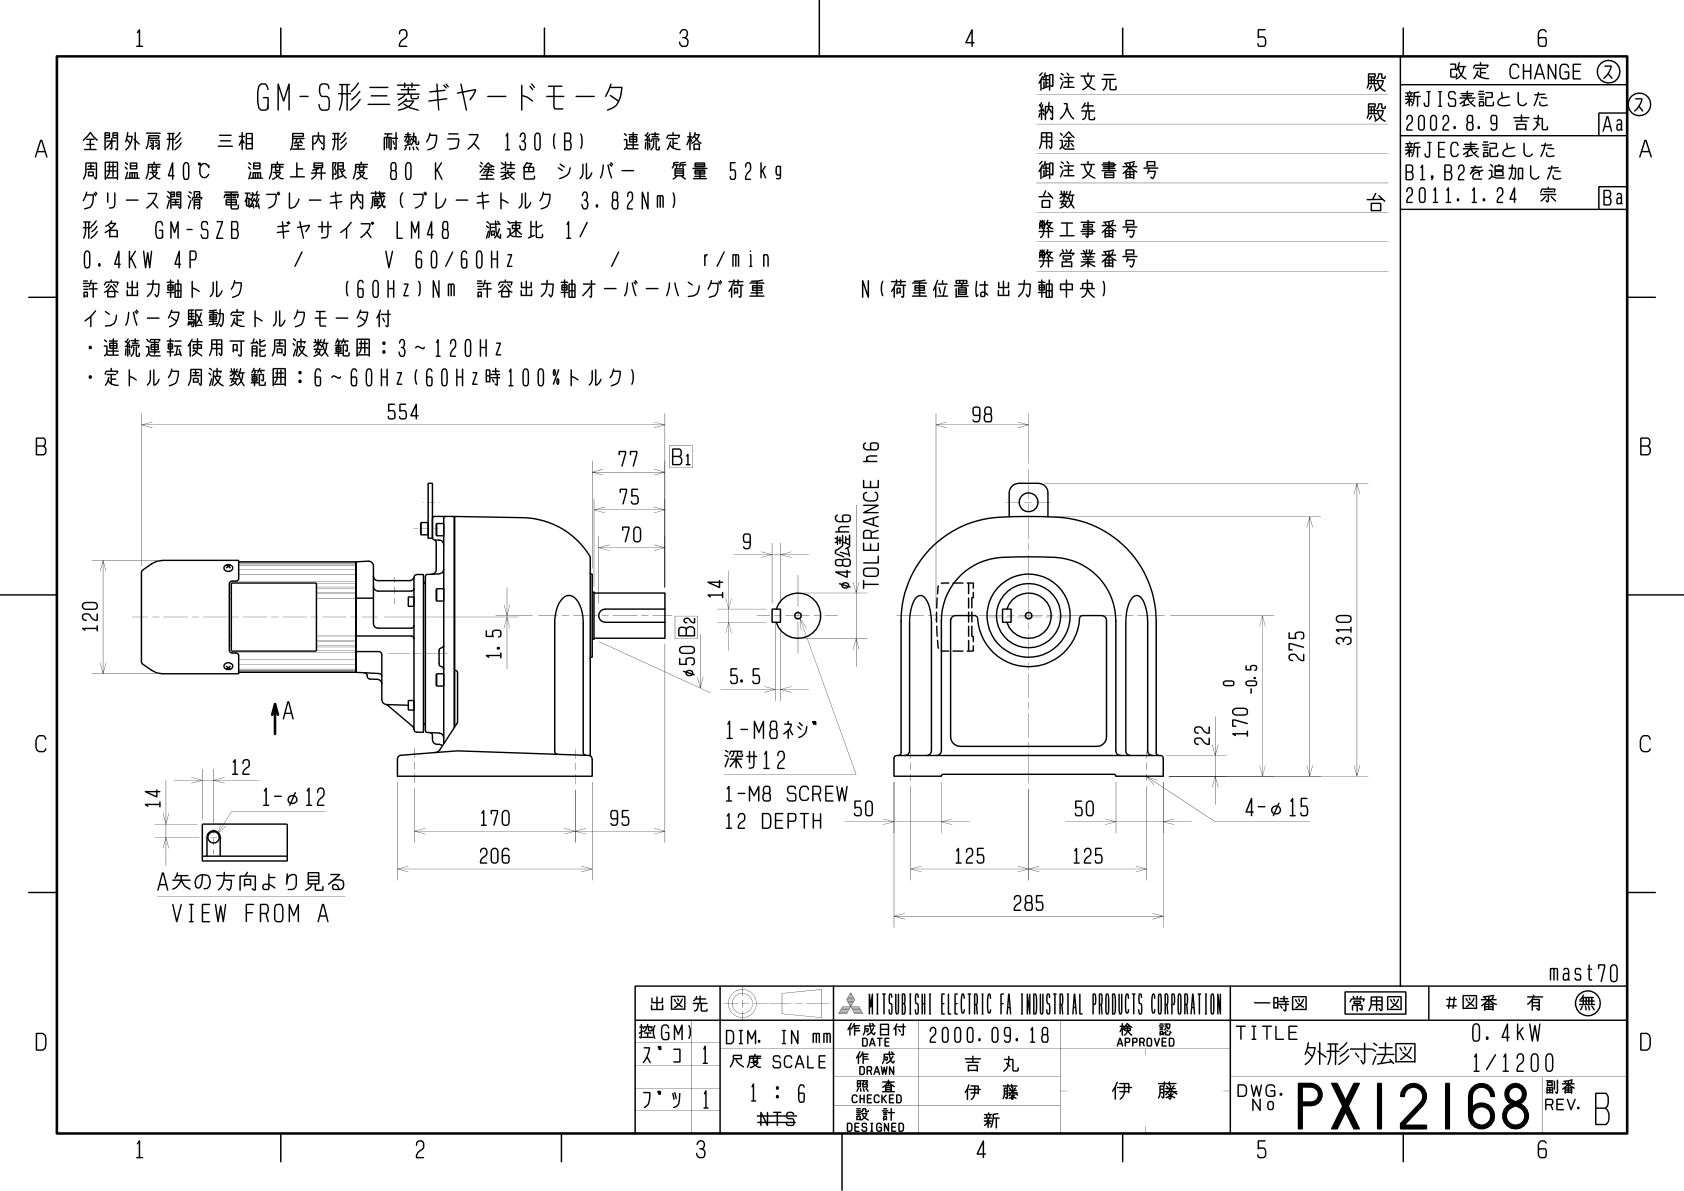GM_S_インバタ屋内＿三相_脚: (4, 3, 1684, 1191)
